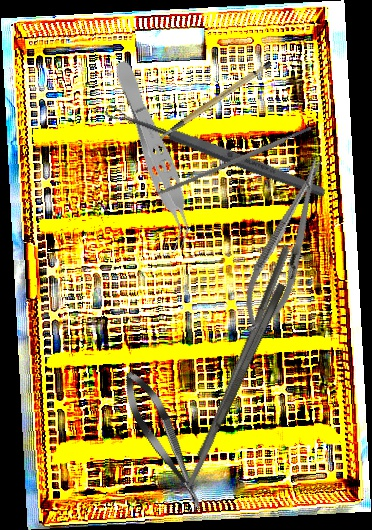Micro Scissor: (114, 365, 214, 517)
Needle Holder: (231, 151, 341, 341)
Pusher: (195, 239, 293, 465)
Scalpel Handle: (156, 125, 313, 198), (149, 59, 280, 140)
Spatula Surgical: (182, 281, 288, 491)
Surgical Spoon: (103, 102, 328, 200)
Tissue Forceps: (104, 56, 204, 253)
